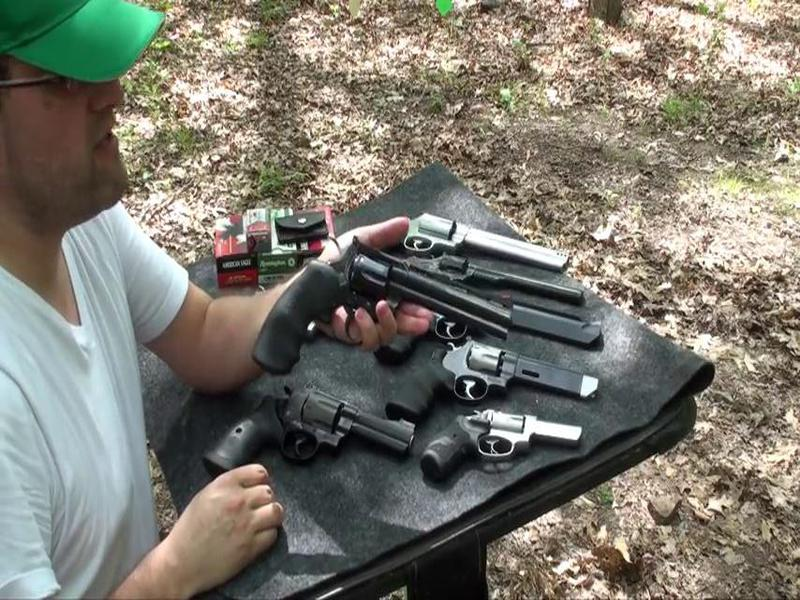Revolver: (247, 228, 525, 400)
